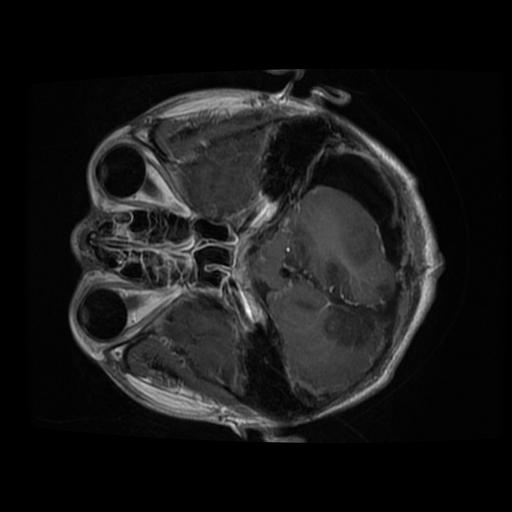glioma: (322, 259, 388, 350)
